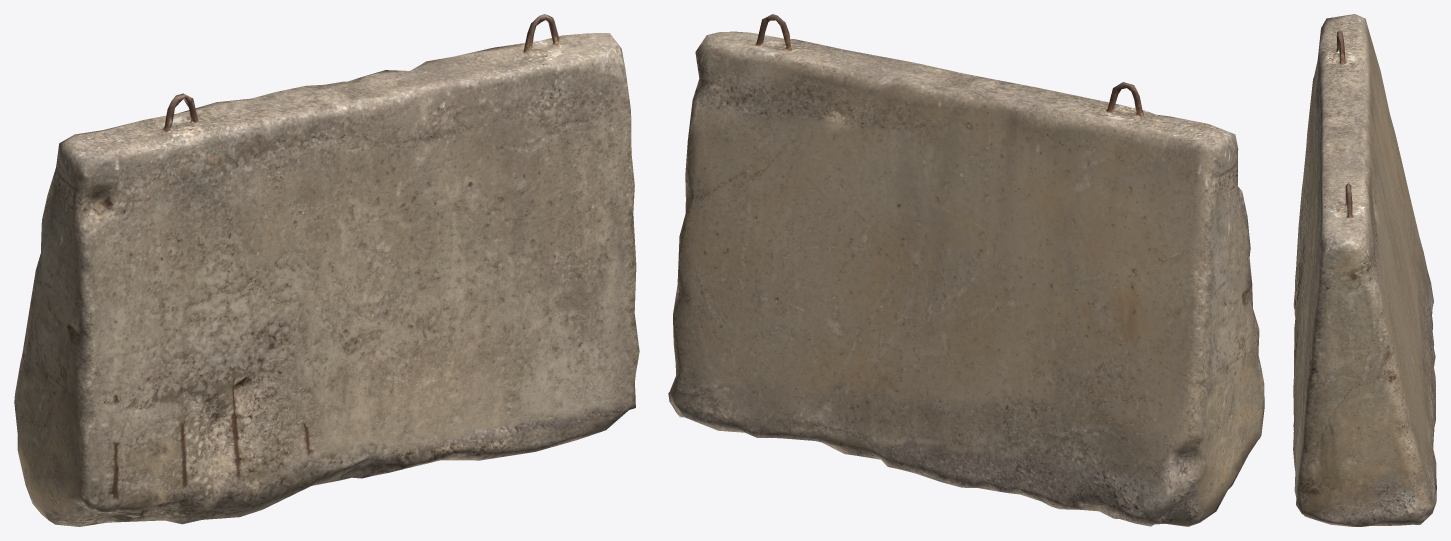
The model's file is concrete_road_barrier_02_Far.fbx.
3 views of the same model, side by side, from view 1: azimuth 30°, elevation 25°; view 2: azimuth 150°, elevation 25°; view 3: azimuth 270°, elevation 25° (orthographic). The views are drawn at different scales.
Parts seen in each view (by area): view 1: concrete_road_barrier_02_Far; view 2: concrete_road_barrier_02_Far; view 3: concrete_road_barrier_02_Far.
Boxes of the visible parts, box(x1,y1,x2,y2) form: concrete_road_barrier_02_Far: box(14, 14, 639, 526); concrete_road_barrier_02_Far: box(668, 14, 1264, 526); concrete_road_barrier_02_Far: box(1293, 14, 1436, 526).
Size of the model in its own units: 1.57 by 1.11 by 0.4364.
